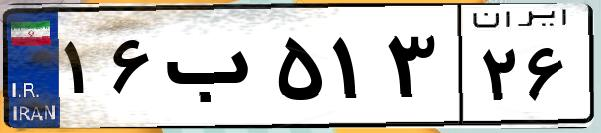1: (330, 28, 385, 110), (57, 26, 110, 100)
2: (475, 38, 525, 113)
3: (385, 28, 445, 110)
5: (270, 28, 330, 110)
6: (525, 38, 570, 115), (110, 28, 158, 98)
ب: (158, 20, 270, 120)
